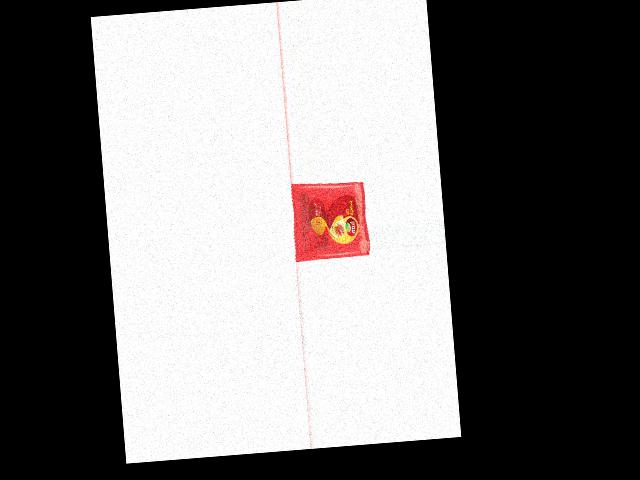cheese: (289, 181, 370, 262)
